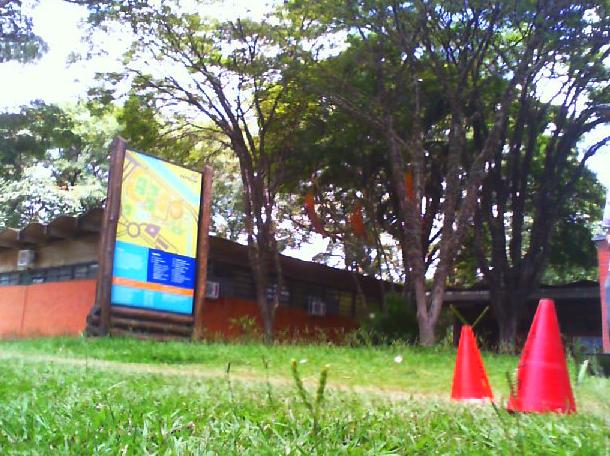0 cone: (508, 299, 576, 414), (450, 325, 495, 400)
